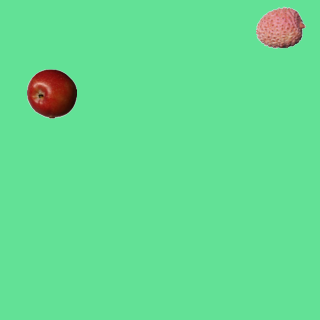Apple Braeburn: (26, 68, 76, 118)
Lychee: (255, 2, 305, 52)
